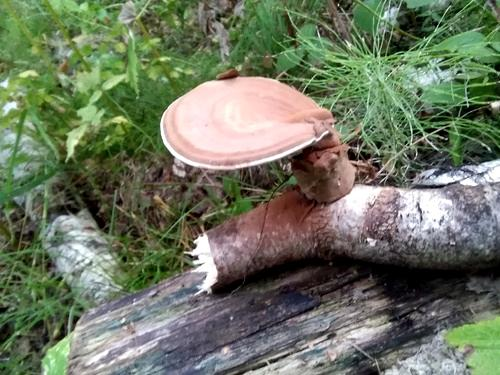Ganoderma - Fruit Body: (163, 74, 358, 202)
